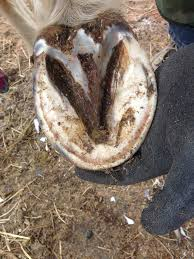horsesole: (32, 22, 158, 172)
